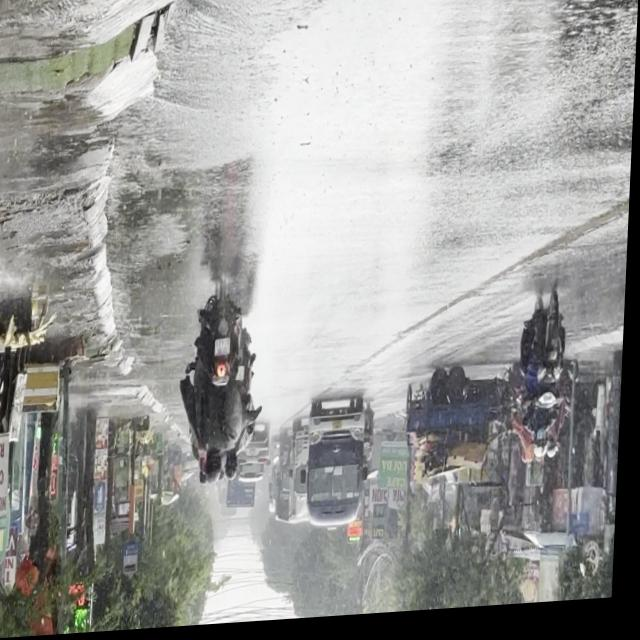helmet: (208, 456, 227, 489), (538, 442, 552, 469)
licenseplate: (183, 282, 266, 494), (518, 292, 576, 473)
nohelmet: (218, 342, 234, 358)
